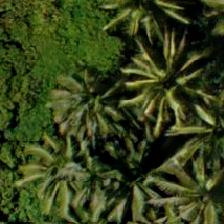Kelapa_Sawit: (121, 28, 211, 118), (126, 48, 216, 138), (173, 157, 223, 223)
